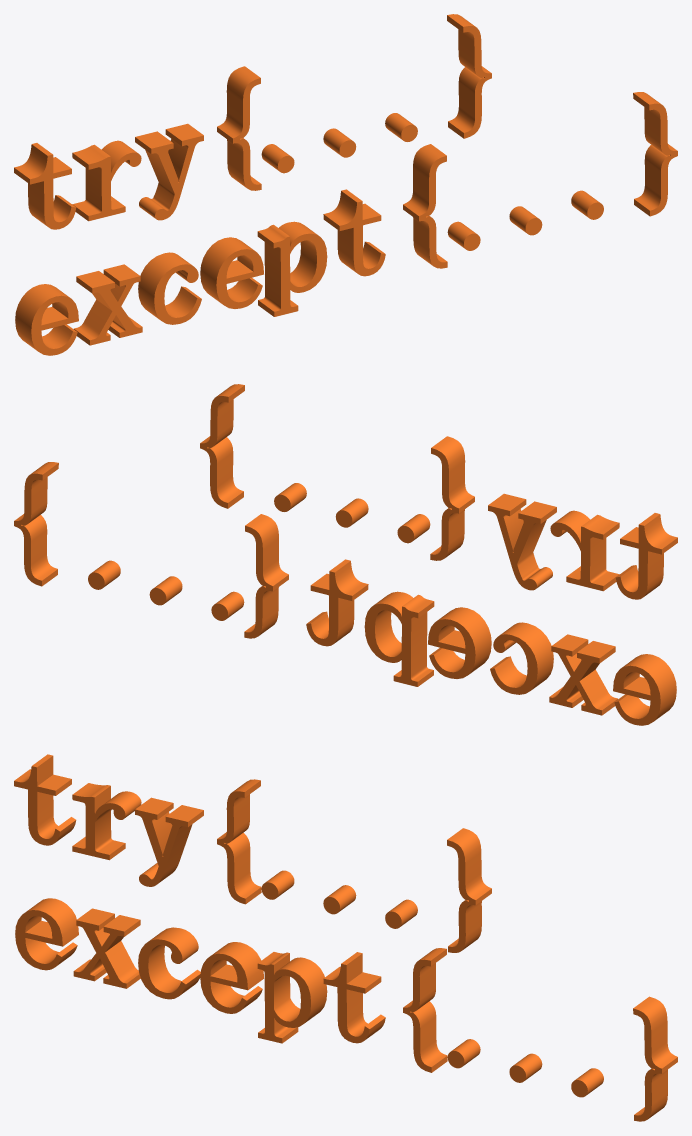
3 views of the same model, one above another, from view 1: azimuth 30°, elevation 25°; view 2: azimuth 150°, elevation 25°; view 3: azimuth 330°, elevation 25° (orthographic).
Parts seen in each view (by area): view 1: node_id38 (×2); view 2: node_id38 (×2); view 3: node_id38 (×2).
Part boxes in pixels (x1=…): node_id38 (×2): x1=14, y1=14, x2=677, y2=355; node_id38 (×2): x1=14, y1=384, x2=677, y2=725; node_id38 (×2): x1=14, y1=754, x2=677, y2=1121.
Bounding box in the file's own units: 0.3482 × 0.1254 × 0.015.
